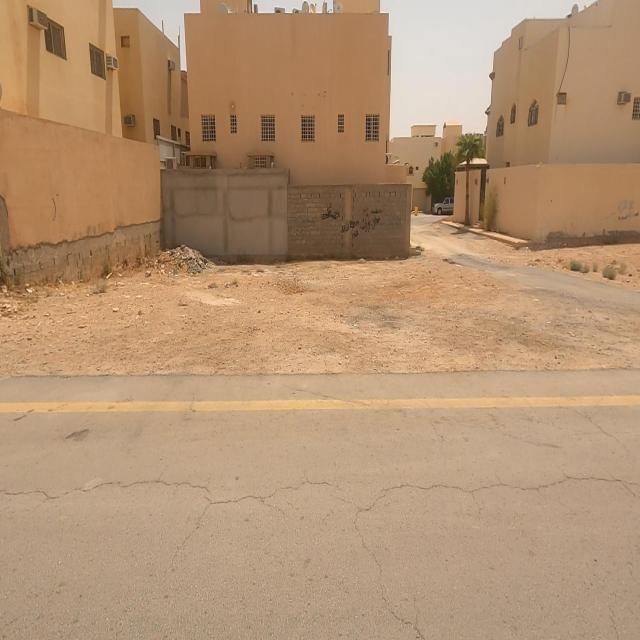Graffiti: (360, 207, 382, 235), (342, 217, 360, 244), (322, 208, 341, 223)
